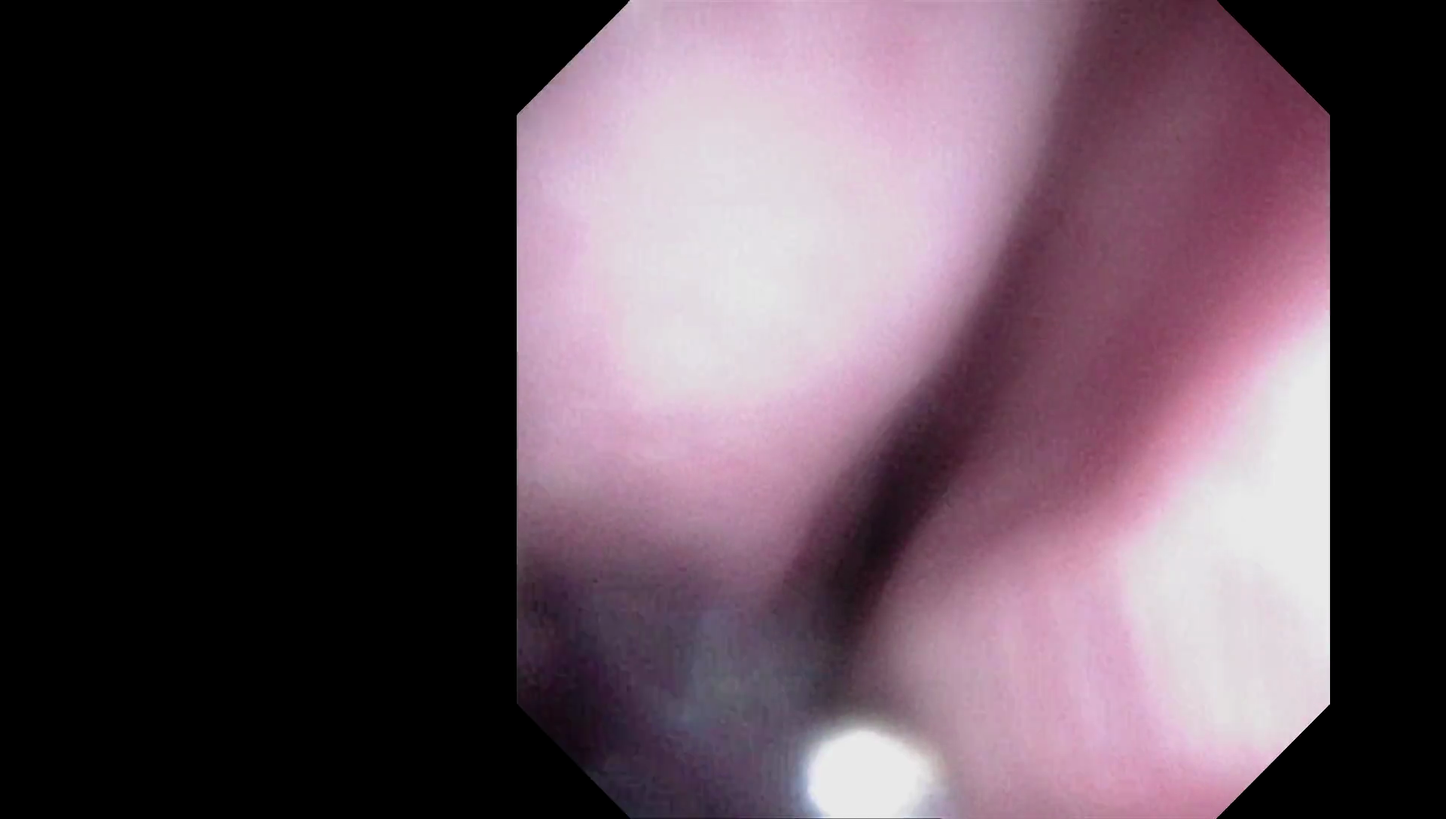close_wall: (532, 59, 985, 476), (1078, 311, 1311, 703)
next: (770, 391, 982, 657), (529, 593, 652, 775)
